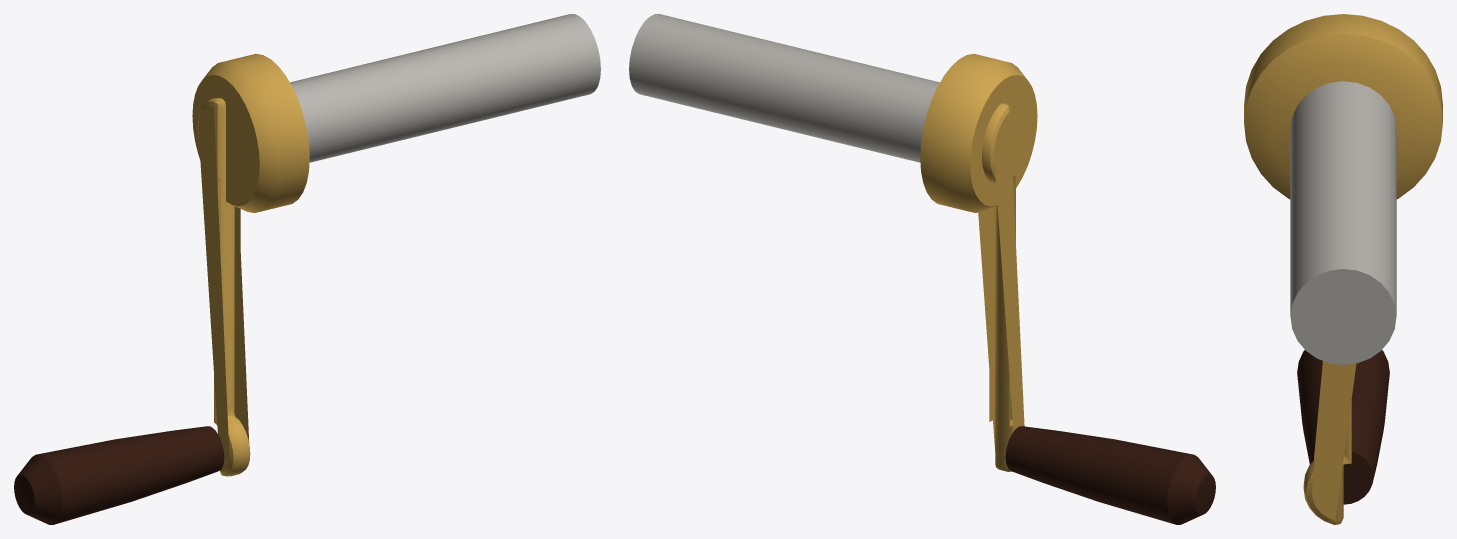
File: bingo-crank.glb
3 renders of one model, left to right at view 1: azimuth 30°, elevation 25°; view 2: azimuth 150°, elevation 25°; view 3: azimuth 270°, elevation 25°, orthographic. The views are drawn at different scales.
Parts seen in each view (by area): view 1: Crank; view 2: Crank; view 3: Crank.
Part boxes in pixels (x1,y1,x2,y2): Crank: [14, 14, 600, 524]; Crank: [629, 14, 1215, 524]; Crank: [1244, 14, 1442, 524].
Bounding box in the file's own units: 0.249 × 0.174 × 0.06.
